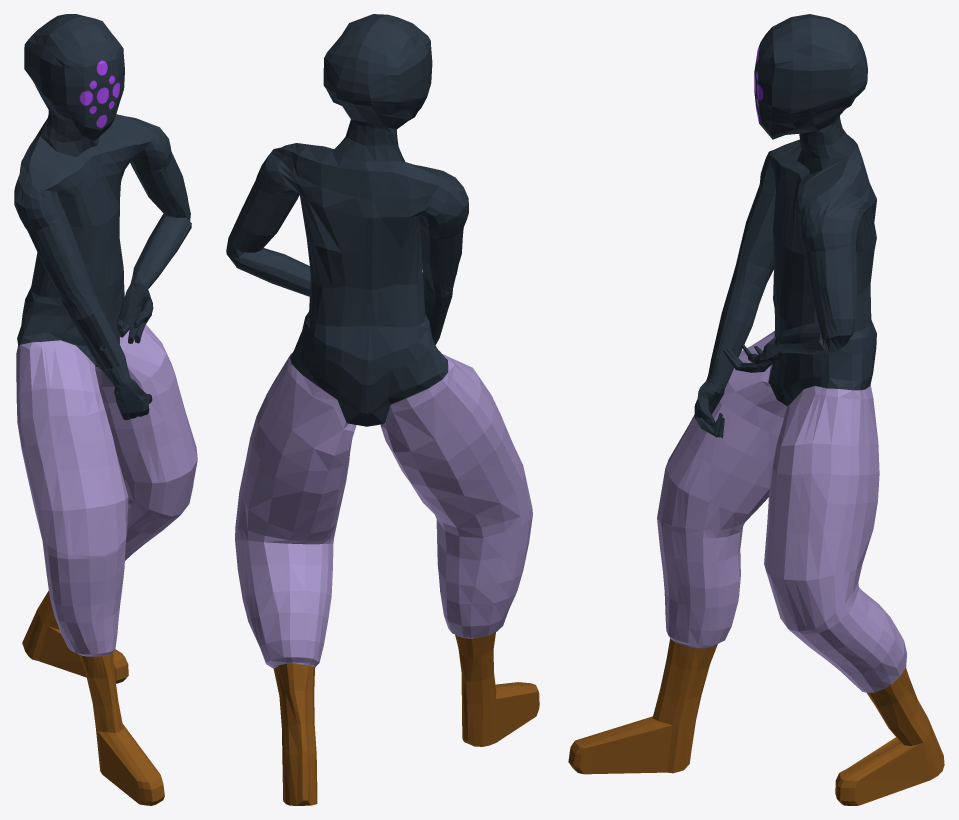
Rendered from Oracle_WF_000017.obj.
The picture shows the model from 3 angles, left to right: view 1: azimuth 30°, elevation 25°; view 2: azimuth 150°, elevation 25°; view 3: azimuth 270°, elevation 25°; orthographic projection. The views are drawn at different scales.
Visible parts, largest first — view 1: Cube; view 2: Cube; view 3: Cube.
Part boxes in pixels (box(x1,y1,x2,y2)): Cube: box(14, 14, 197, 805); Cube: box(226, 14, 539, 805); Cube: box(568, 14, 944, 805).
Size of the model in its own units: 1.17 by 3.78 by 1.68.
